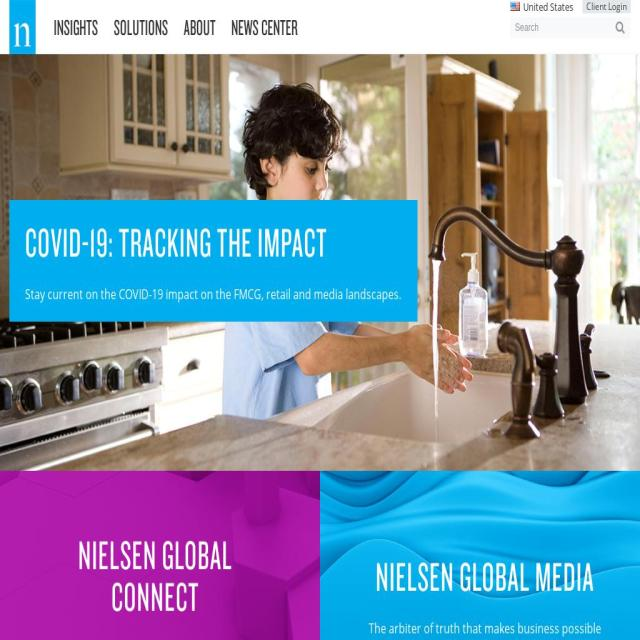button: (223, 16, 306, 38), (106, 16, 176, 38), (9, 0, 36, 54), (46, 16, 106, 38), (176, 16, 223, 38), (507, 0, 573, 15), (582, 0, 630, 13)
field: (510, 16, 612, 38)
heading: (35, 533, 276, 617), (25, 221, 327, 262), (364, 555, 606, 597)
image: (0, 54, 640, 471), (0, 471, 320, 640), (320, 471, 640, 640), (9, 0, 36, 54), (612, 16, 630, 38), (510, 1, 520, 10)
link: (25, 285, 401, 303)
text: (363, 617, 605, 640), (34, 637, 276, 640), (523, 0, 573, 14)
